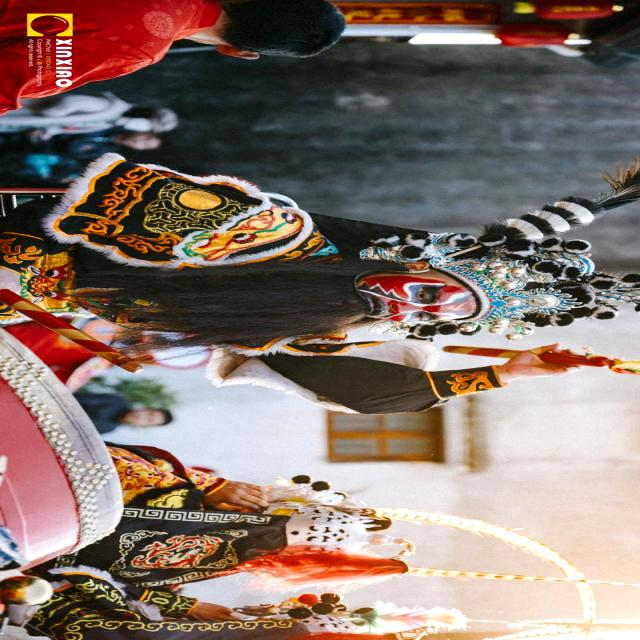Reeves-s Pheasant: (378, 509, 595, 640), (480, 246, 515, 286), (416, 569, 540, 580)
